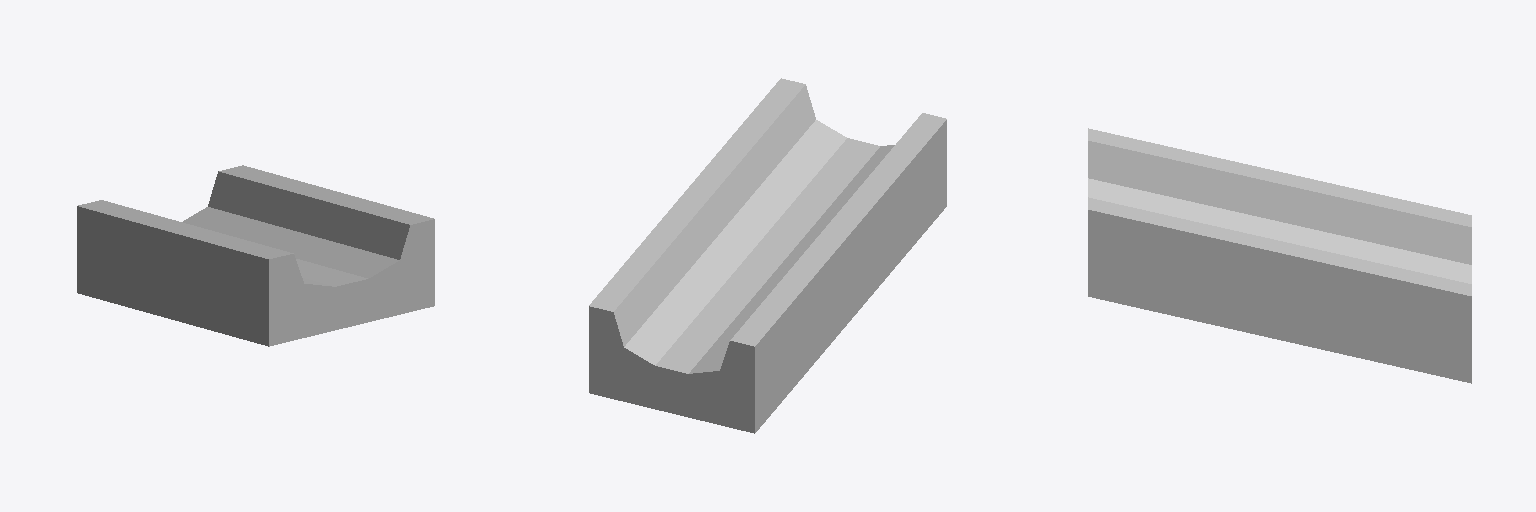
File: slant-long-b.obj
3 views of the same model, side by side, from view 1: azimuth 30°, elevation 25°; view 2: azimuth 150°, elevation 25°; view 3: azimuth 270°, elevation 25° (orthographic).
Parts seen in each view (by area): view 1: slant-long-b; view 2: slant-long-b; view 3: slant-long-b.
Part boxes in pixels (x1,y1,x2,y2): slant-long-b: (77, 165, 434, 346); slant-long-b: (589, 78, 946, 433); slant-long-b: (1088, 128, 1471, 383).
Size of the model in its own units: 1 by 1 by 2.